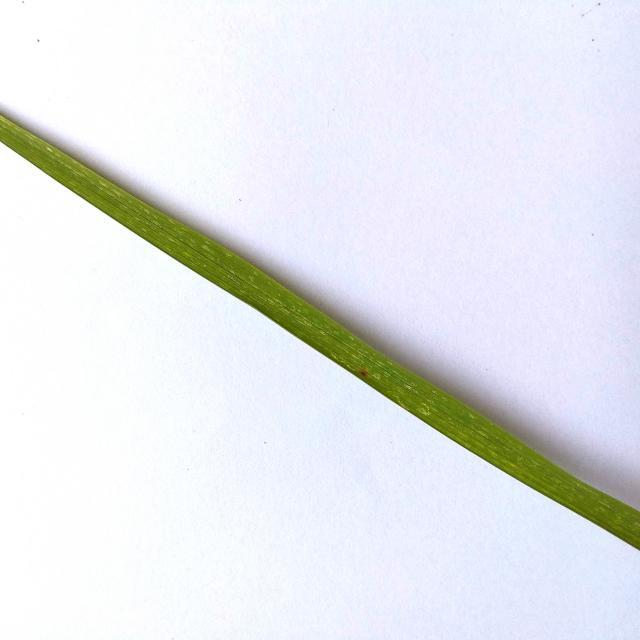brownspots: (351, 356, 376, 382)
